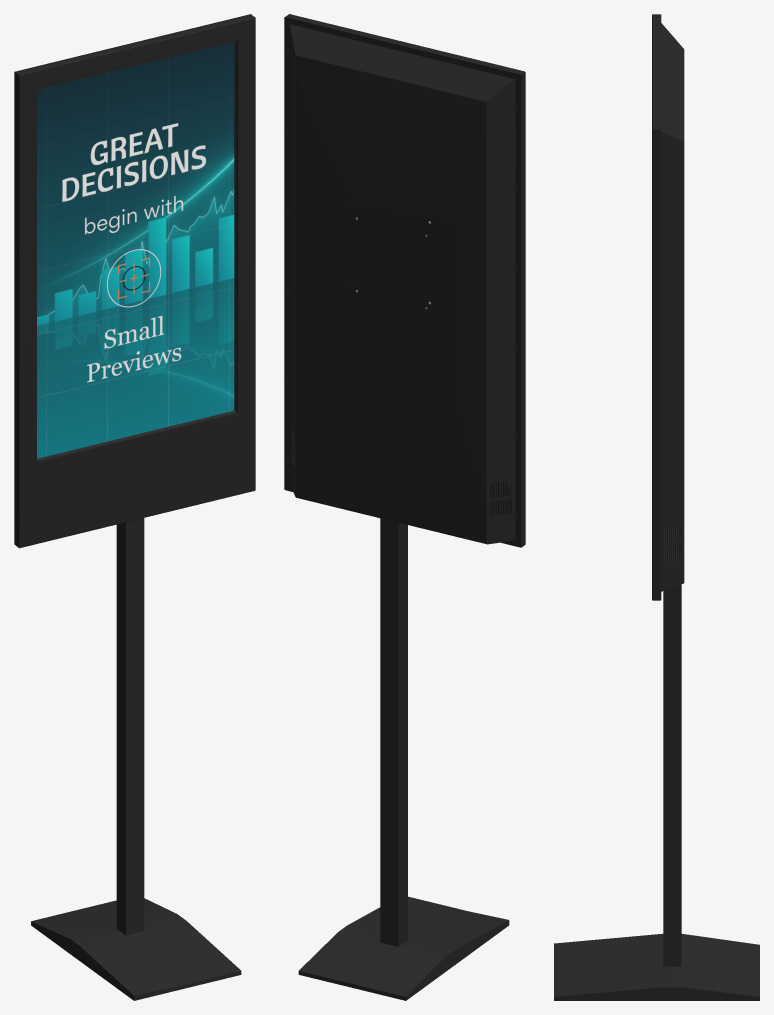
3 renders of one model, left to right at view 1: azimuth 30°, elevation 25°; view 2: azimuth 150°, elevation 25°; view 3: azimuth 270°, elevation 25°, orthographic.
Parts seen in each view (by area): view 1: Cube.001, Cube.002; view 2: Cube.001, Cube.002; view 3: Cube.002, Cube.001.
Part boxes in pixels (x1,y1,x2,y2): Cube.001: [14, 14, 255, 548]; Cube.002: [31, 518, 241, 1000]; Cube.001: [284, 14, 525, 547]; Cube.002: [298, 518, 509, 1000]; Cube.002: [554, 533, 759, 1000]; Cube.001: [652, 14, 684, 600].
Bounding box in the file's own units: 0.6154 × 2.25 × 0.4652.
Materials: 4 (1 with a texture image).
